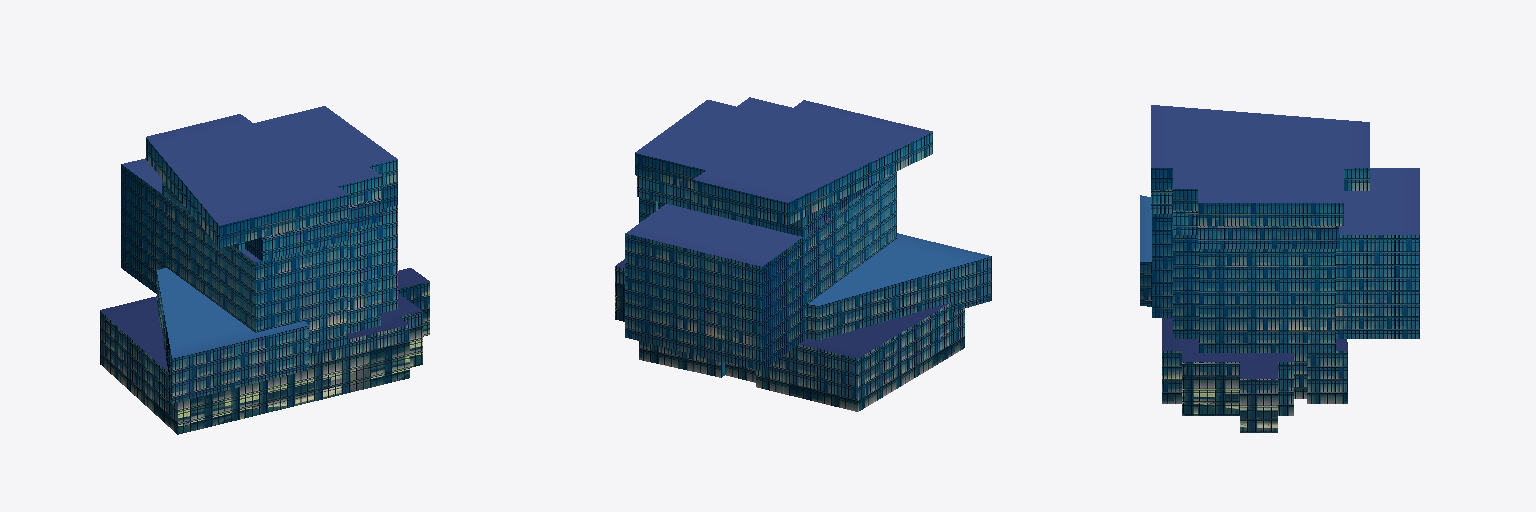
3 renders of one model, left to right at view 1: azimuth 30°, elevation 25°; view 2: azimuth 150°, elevation 25°; view 3: azimuth 270°, elevation 25°, orthographic.
Parts seen in each view (by area): view 1: Box024, ����594; view 2: Box024, ����594; view 3: Box024, ����594.
Part boxes in pixels (bbox=[...]): Box024: bbox=[100, 138, 429, 434]; ����594: bbox=[100, 106, 428, 372]; Box024: bbox=[615, 132, 991, 411]; ����594: bbox=[616, 97, 990, 357]; Box024: bbox=[1140, 168, 1419, 432]; ����594: bbox=[1140, 105, 1419, 378].
Size of the model in its own units: 1158 by 733 by 914.
2 materials, 2 textured.